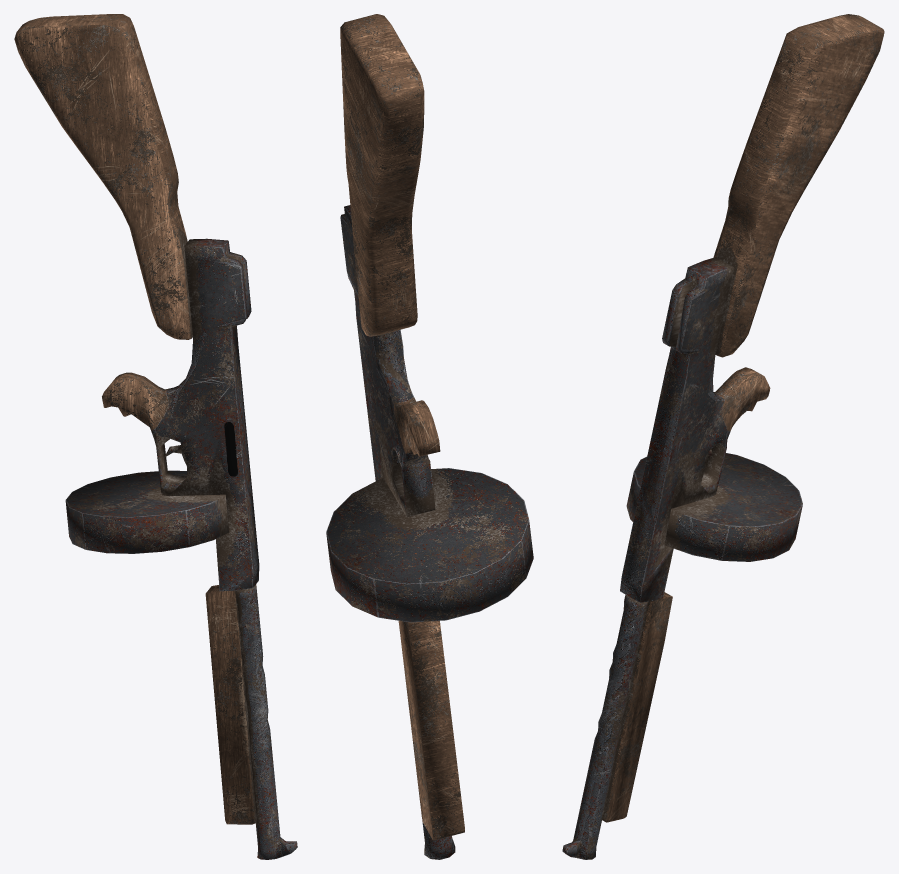
Rendered from Anim_idle_ametralladora_objetos.0037.obj.
3 views of the same model, side by side, from view 1: azimuth 30°, elevation 25°; view 2: azimuth 150°, elevation 25°; view 3: azimuth 270°, elevation 25° (orthographic). The views are drawn at different scales.
Parts seen in each view (by area): view 1: Ametralladora1; view 2: Ametralladora1; view 3: Ametralladora1.
Part boxes in pixels (left/top/right/bottom): Ametralladora1: left=14, top=14, right=297, bottom=859; Ametralladora1: left=326, top=14, right=533, bottom=859; Ametralladora1: left=562, top=14, right=884, bottom=859.
Bounding box in the file's own units: 1.24 × 5.86 × 2.14.
